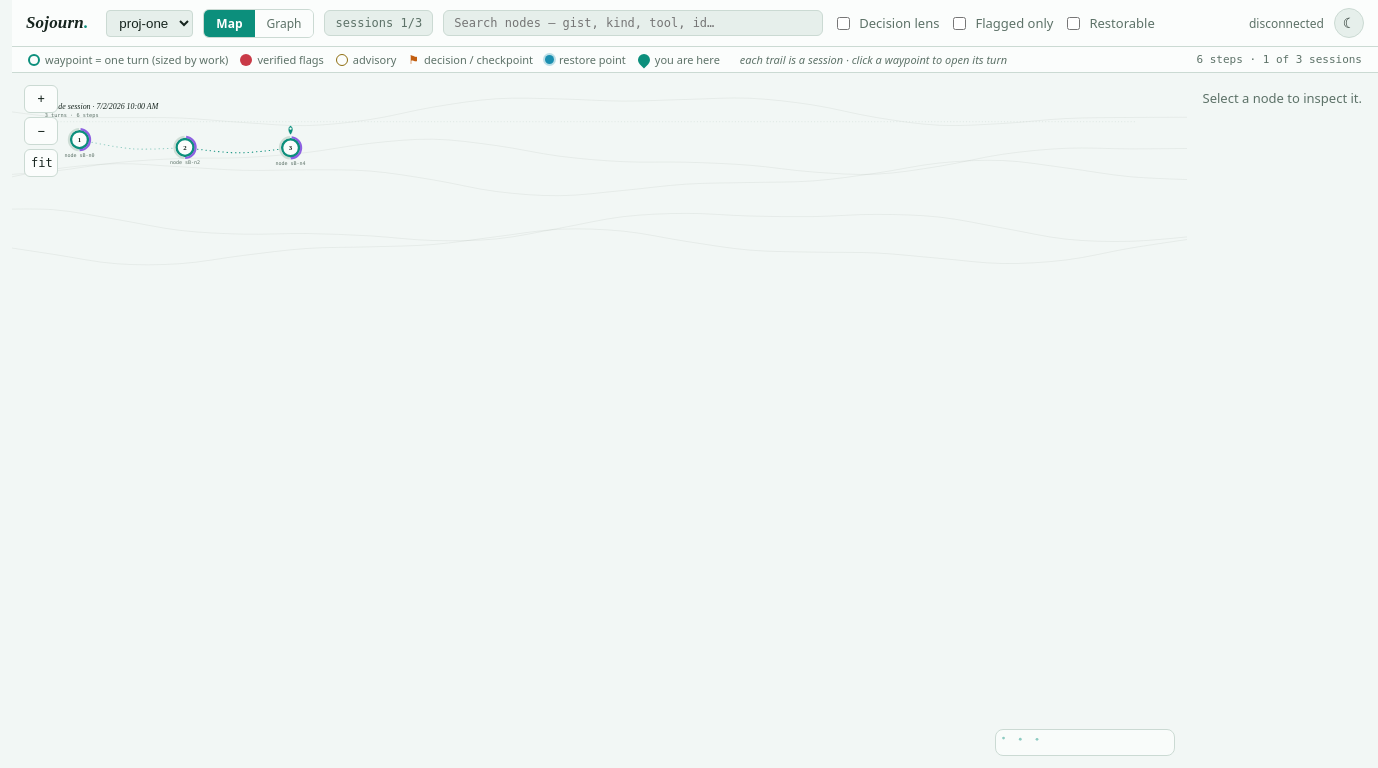
App / session filter — multi-select and All › 'All' selects every session
The image size is (1378, 768).
Expected: the element with test id "legend" is shown, [12,47,1377,73]
Click the button with test id "session-filter-button": x=379, y=23 [324,10,433,36]
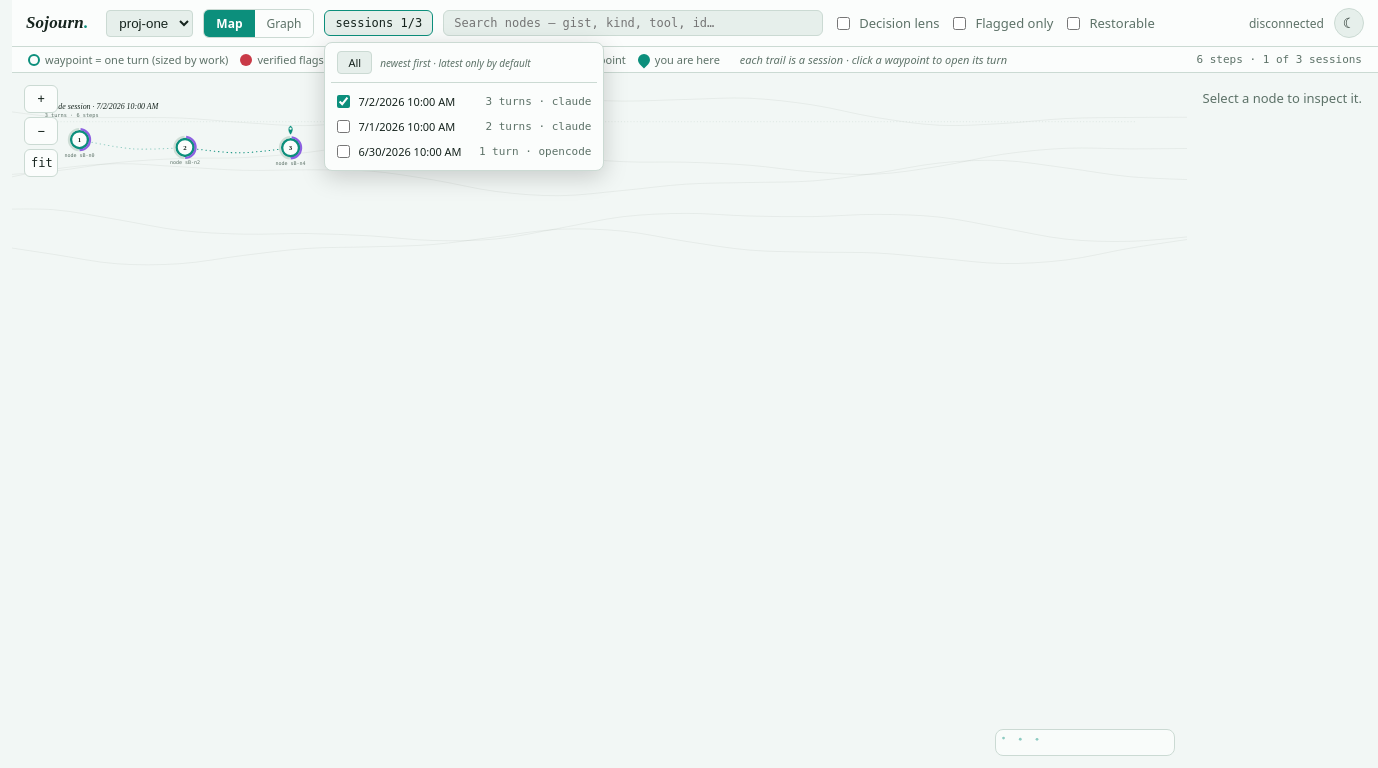
Click the button "All": x=355, y=62 [338,51,372,74]
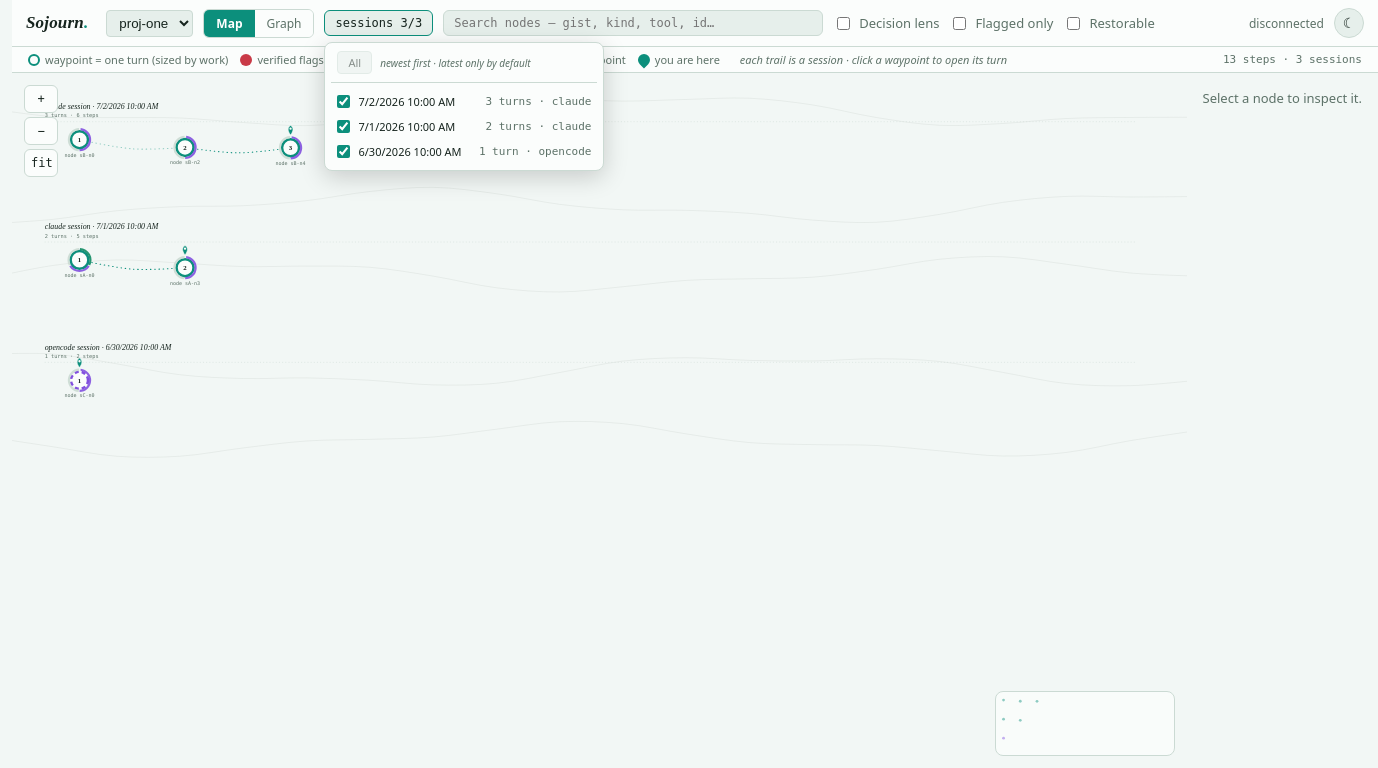
Expected: the element with test id "legend" shows "3 sessions", [1296,53,1362,66]
Now the element with test id "legend" shows "13 steps", box [12,47,1377,73]
